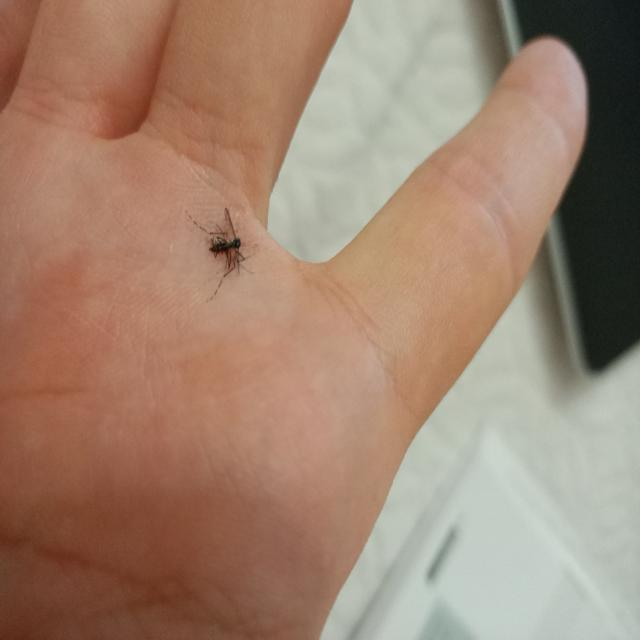albopictus: (180, 194, 261, 305)
